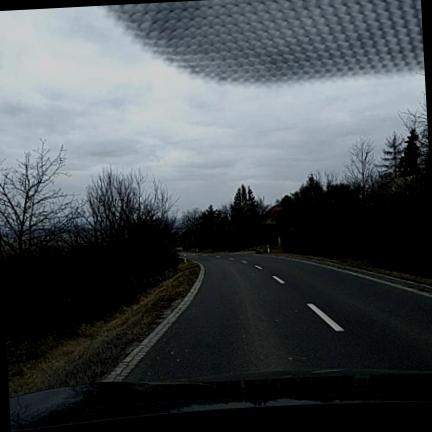Road: (125, 254, 431, 382)
